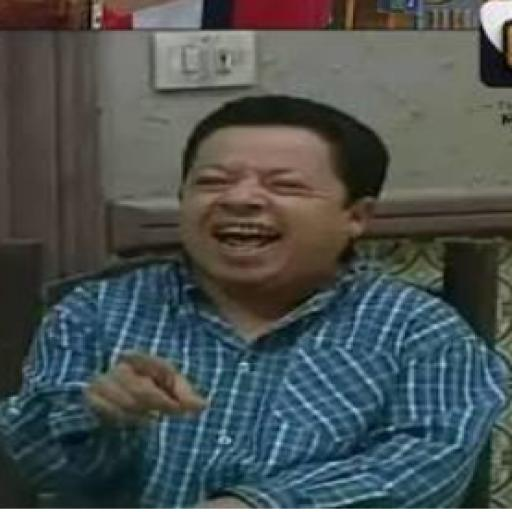fouchika: (183, 96, 388, 277)
